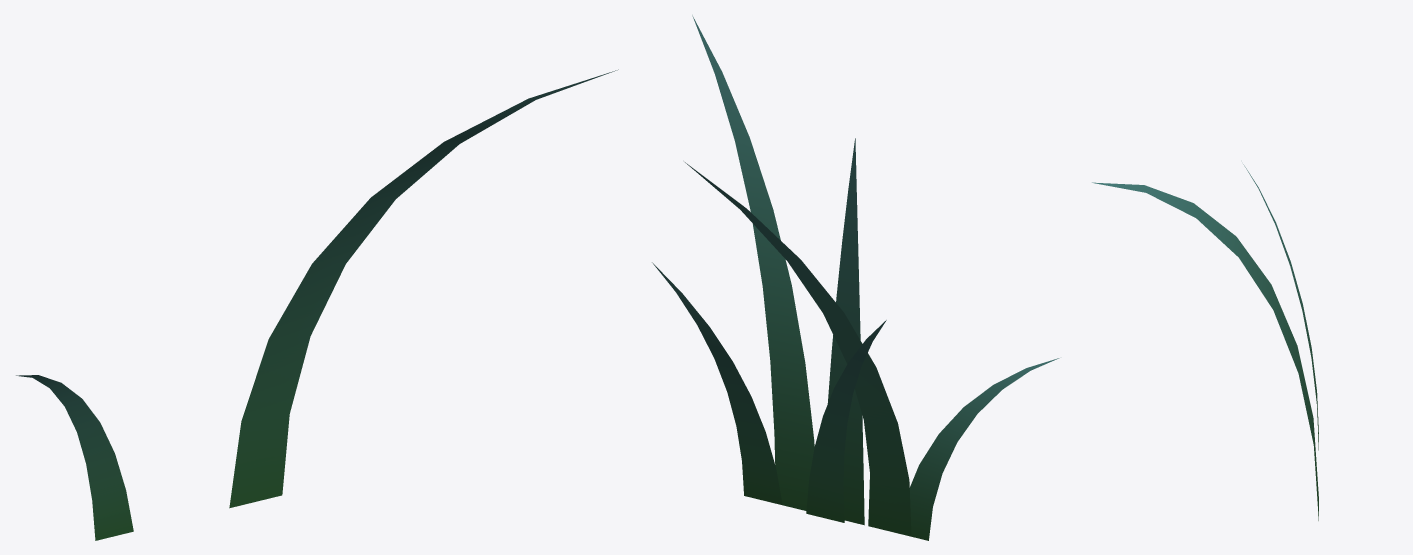
File: GrassClumpNight.glb
3 views of the same model, side by side, from view 1: azimuth 30°, elevation 25°; view 2: azimuth 150°, elevation 25°; view 3: azimuth 270°, elevation 25° (orthographic). The views are drawn at different scales.
Visible parts, largest first — view 1: GrassClumpNight; view 2: GrassClumpNight; view 3: GrassClumpNight.
Boxes of the visible parts, <box> form: GrassClumpNight: <box>16,69,618,540</box>; GrassClumpNight: <box>652,15,1059,540</box>; GrassClumpNight: <box>1092,164,1318,520</box>.
Bounding box in the file's own units: 0.9911 × 0.8511 × 0.5157.
